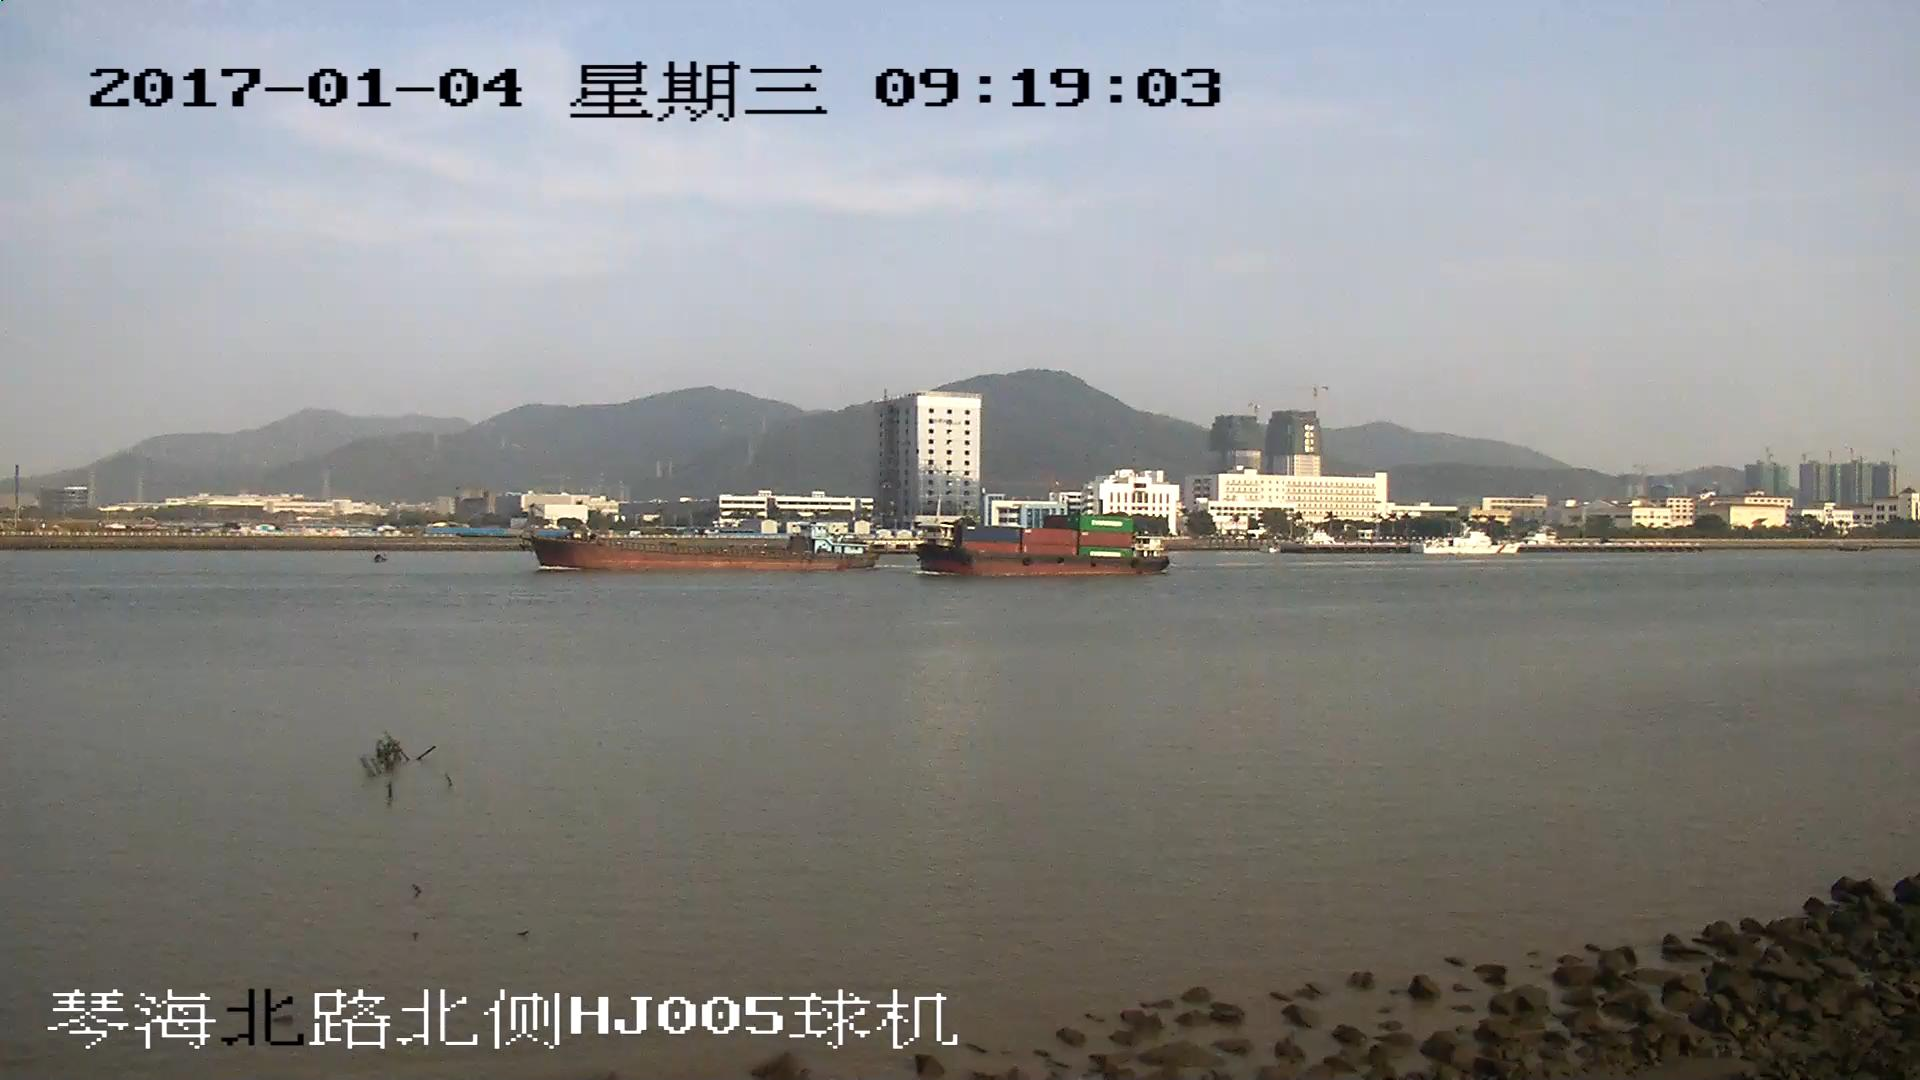bulk cargo carrier: (528, 524, 877, 572)
container ship: (921, 512, 1161, 574)
